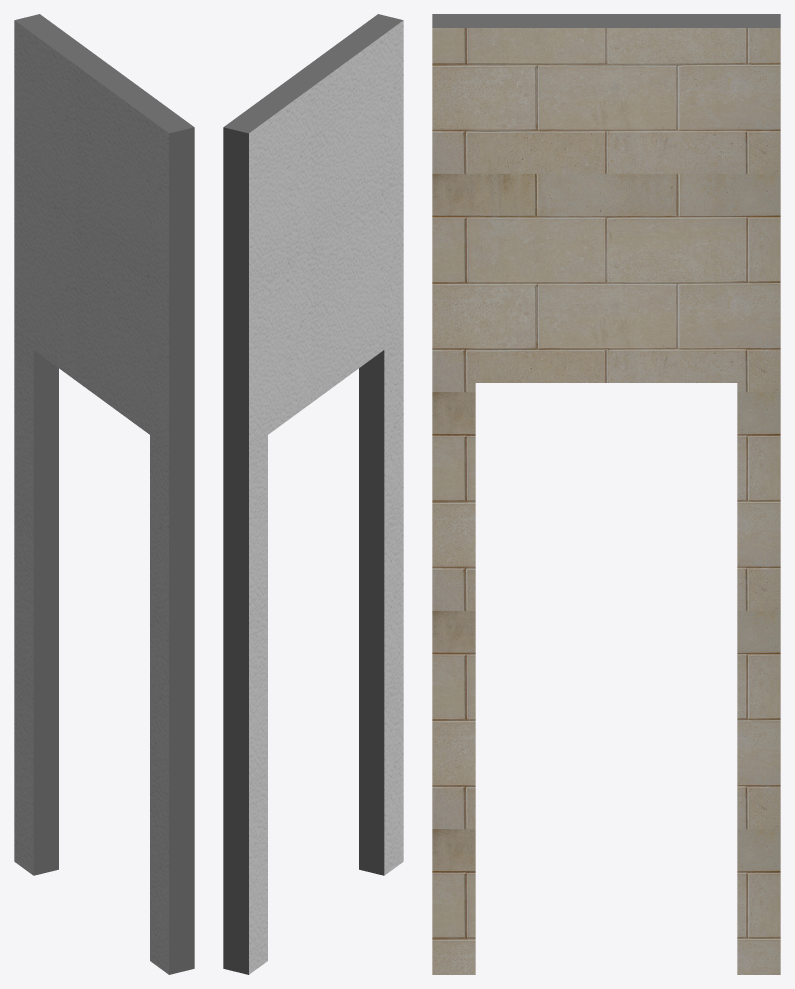
The model's file is BathWallDoor.fbx.
3 renders of one model, left to right at view 1: azimuth 30°, elevation 25°; view 2: azimuth 150°, elevation 25°; view 3: azimuth 270°, elevation 25°, orthographic. The views are drawn at different scales.
Visible parts, largest first — view 1: Cube.003; view 2: Cube.003; view 3: Cube.003.
Part boxes in pixels (<box>): Cube.003: <box>14,14,194,974</box>; Cube.003: <box>223,14,403,974</box>; Cube.003: <box>432,14,780,974</box>.
Size of the model in its own units: 18.98 by 600 by 200.
Materials: 3 (2 with a texture image).
